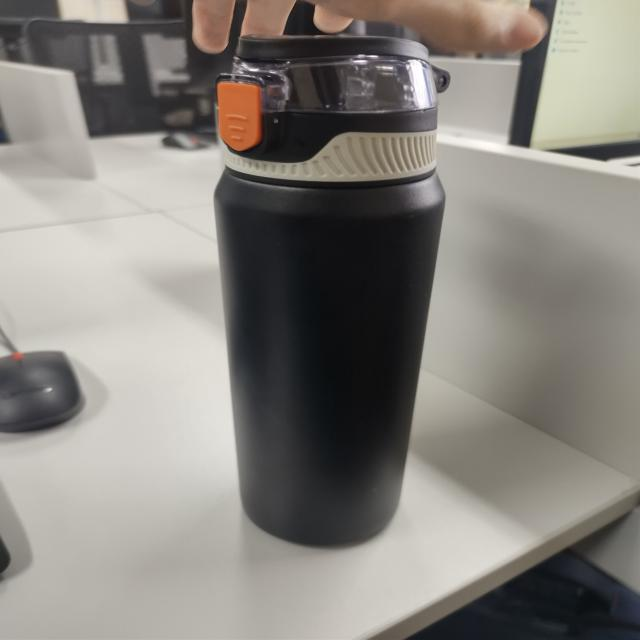Garrafa: (201, 31, 449, 549)
